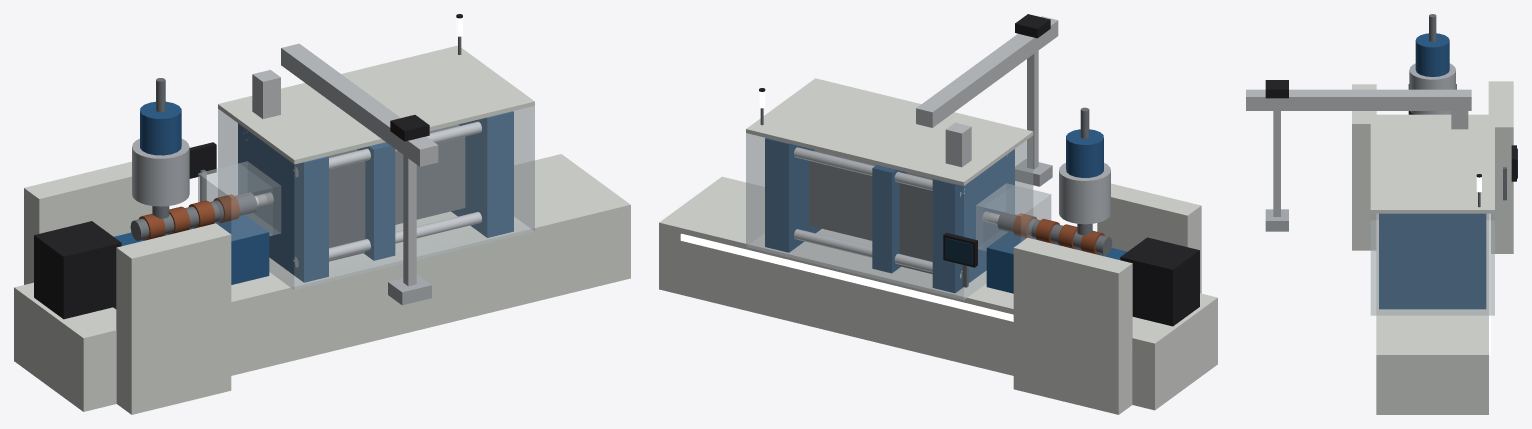
File: mold.glb
3 renders of one model, left to right at view 1: azimuth 30°, elevation 25°; view 2: azimuth 150°, elevation 25°; view 3: azimuth 270°, elevation 25°, orthographic. The views are drawn at different scales.
Visible parts, largest first — view 1: body, spin; view 2: body, status_band, spin; view 3: body, spin, status_band.
Boxes of the visible parts, x1,y1,x2,y2 form: body: (14,14,630,414); spin: (388,155,431,305); body: (659,14,1217,414); status_band: (680,233,1013,321); spin: (1015,50,1052,186); body: (1246,14,1517,414); spin: (1265,111,1288,231); status_band: (1489,214,1490,355).
Size of the model in its own units: 6.6 by 3.22 by 3.5.
